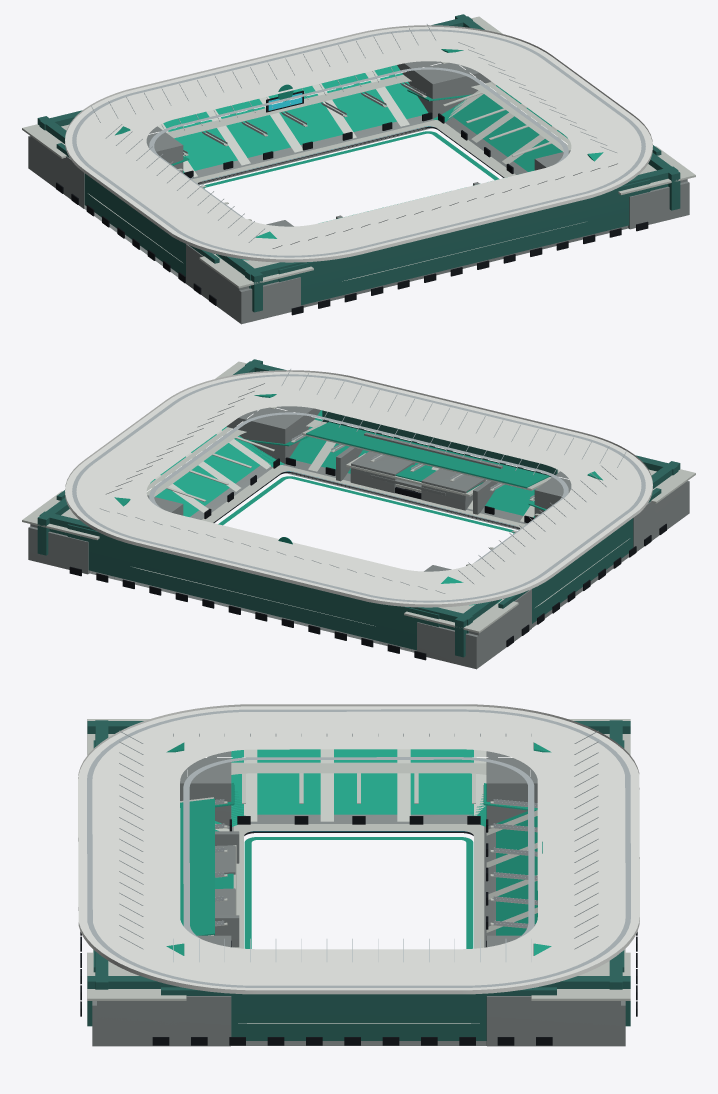
Rendered from stadium_architectural_complete.glb.
The picture shows the model from 3 angles, top to bottom: view 1: azimuth 30°, elevation 25°; view 2: azimuth 150°, elevation 25°; view 3: azimuth 270°, elevation 25°; orthographic projection. The views are drawn at different scales.
Parts seen in each view (by area): view 1: arch_roof_single_continuous_skin_TEAM_SECONDARY, arch_south_rear_grandstand_wall_TEAM_ACCENT, arch_north_completed_green_seating_field_TEAM_PRIMARY, arch_roof_rear_steel_lip, arch_roof_outer_thick_edge_TEAM_SECONDARY, arch_west_rear_grandstand_wall_TEAM_ACCENT, arch_east_completed_green_seating_field_TEAM_PRIMARY, arch_continuous_upper_concourse_lip, arch_northeast_corner_solid_bowl_fill, arch_northwest_corner_solid_bowl_fill, arch_north_visible_grandstand_solid_bowl, arch_southwest_corner_solid_bowl_fill (+16 smaller); view 2: arch_roof_single_continuous_skin_TEAM_SECONDARY, arch_north_rear_grandstand_wall_TEAM_ACCENT, arch_roof_rear_steel_lip, arch_tunnel_overbuild_seat_deck_TEAM_PRIMARY, arch_roof_outer_thick_edge_TEAM_SECONDARY, arch_west_rear_grandstand_wall_TEAM_ACCENT, arch_east_completed_green_seating_field_TEAM_PRIMARY, arch_southeast_corner_solid_bowl_fill, arch_south_completed_green_seating_field_TEAM_PRIMARY, arch_northwest_corner_solid_bowl_fill, arch_tunnel_rear_opaque_wall_TEAM_ACCENT, arch_continuous_inner_concrete_terrace_lip (+21 smaller); view 3: arch_roof_single_continuous_skin_TEAM_SECONDARY, arch_east_rear_grandstand_wall_TEAM_ACCENT, arch_west_completed_green_seating_field_TEAM_PRIMARY, arch_northeast_corner_solid_bowl_fill, arch_southeast_corner_solid_bowl_fill, arch_roof_rear_steel_lip, arch_roof_outer_thick_edge_TEAM_SECONDARY, arch_tunnel_overbuild_seat_deck_TEAM_PRIMARY, arch_continuous_inner_concrete_terrace_lip, arch_roof_front_steel_lip, arch_continuous_upper_concourse_lip, arch_north_completed_green_seating_field_TEAM_PRIMARY (+16 smaller).
Part boxes in pixels (x1=…): arch_roof_single_continuous_skin_TEAM_SECONDARY: x1=65, y1=26, x2=652, y2=259; arch_south_rear_grandstand_wall_TEAM_ACCENT: x1=278, y1=179, x2=650, y2=305; arch_north_completed_green_seating_field_TEAM_PRIMARY: x1=163, y1=65, x2=428, y2=173; arch_roof_rear_steel_lip: x1=72, y1=29, x2=645, y2=257; arch_roof_outer_thick_edge_TEAM_SECONDARY: x1=65, y1=25, x2=652, y2=262; arch_west_rear_grandstand_wall_TEAM_ACCENT: x1=56, y1=143, x2=219, y2=276; arch_east_completed_green_seating_field_TEAM_PRIMARY: x1=453, y1=85, x2=567, y2=171; arch_continuous_upper_concourse_lip: x1=167, y1=74, x2=571, y2=151; arch_northeast_corner_solid_bowl_fill: x1=397, y1=61, x2=490, y2=118; arch_northwest_corner_solid_bowl_fill: x1=30, y1=126, x2=183, y2=208; arch_north_visible_grandstand_solid_bowl: x1=190, y1=115, x2=434, y2=184; arch_southwest_corner_solid_bowl_fill: x1=186, y1=220, x2=338, y2=322; arch_roof_single_continuous_skin_TEAM_SECONDARY: x1=65, y1=371, x2=652, y2=604; arch_north_rear_grandstand_wall_TEAM_ACCENT: x1=67, y1=524, x2=439, y2=650; arch_roof_rear_steel_lip: x1=72, y1=374, x2=645, y2=602; arch_tunnel_overbuild_seat_deck_TEAM_PRIMARY: x1=306, y1=422, x2=549, y2=488; arch_roof_outer_thick_edge_TEAM_SECONDARY: x1=65, y1=370, x2=652, y2=607; arch_west_rear_grandstand_wall_TEAM_ACCENT: x1=498, y1=488, x2=661, y2=623; arch_east_completed_green_seating_field_TEAM_PRIMARY: x1=150, y1=426, x2=265, y2=516; arch_southeast_corner_solid_bowl_fill: x1=226, y1=406, x2=320, y2=463; arch_south_completed_green_seating_field_TEAM_PRIMARY: x1=289, y1=410, x2=536, y2=517; arch_northwest_corner_solid_bowl_fill: x1=380, y1=565, x2=531, y2=667; arch_tunnel_rear_opaque_wall_TEAM_ACCENT: x1=322, y1=410, x2=557, y2=477; arch_continuous_inner_concrete_terrace_lip: x1=202, y1=465, x2=525, y2=528; arch_roof_single_continuous_skin_TEAM_SECONDARY: x1=78, y1=706, x2=639, y2=990; arch_east_rear_grandstand_wall_TEAM_ACCENT: x1=161, y1=987, x2=556, y2=1040; arch_west_completed_green_seating_field_TEAM_PRIMARY: x1=231, y1=749, x2=473, y2=814; arch_northeast_corner_solid_bowl_fill: x1=486, y1=935, x2=620, y2=1046; arch_southeast_corner_solid_bowl_fill: x1=97, y1=935, x2=231, y2=1046; arch_roof_rear_steel_lip: x1=87, y1=709, x2=630, y2=987; arch_roof_outer_thick_edge_TEAM_SECONDARY: x1=78, y1=704, x2=639, y2=994; arch_tunnel_overbuild_seat_deck_TEAM_PRIMARY: x1=180, y1=798, x2=214, y2=935; arch_continuous_inner_concrete_terrace_lip: x1=233, y1=824, x2=484, y2=948; arch_roof_front_steel_lip: x1=183, y1=757, x2=534, y2=938; arch_continuous_upper_concourse_lip: x1=231, y1=762, x2=486, y2=774; arch_north_completed_green_seating_field_TEAM_PRIMARY: x1=496, y1=808, x2=537, y2=935.
Size of the model in its own units: 252 by 25.47 by 216.
